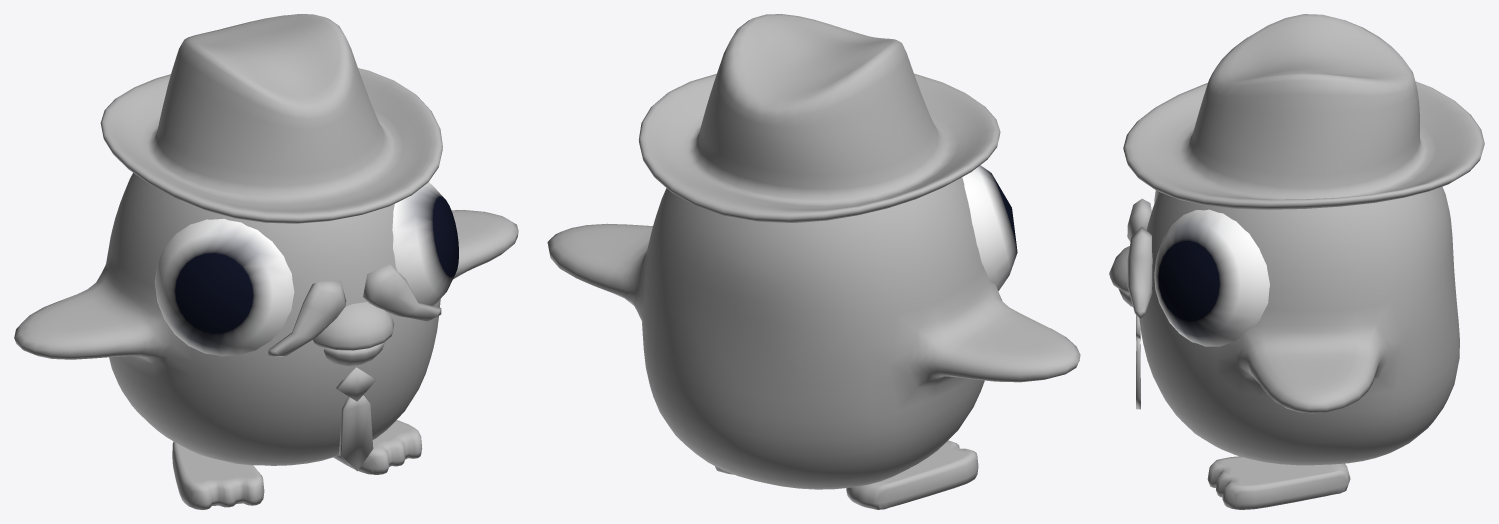
File: Penguin_R_S.fbx
3 renders of one model, left to right at view 1: azimuth 30°, elevation 25°; view 2: azimuth 150°, elevation 25°; view 3: azimuth 270°, elevation 25°, orthographic. The views are drawn at different scales.
Parts seen in each view (by area): view 1: P_Body, P_Hat01, P_Eyes, P_Feet, P_Mustache01, P_Neck01, P_MouthBot, P_MouthTop; view 2: P_Body, P_Hat01, P_Feet, P_Eyes; view 3: P_Body, P_Hat01, P_Eyes, P_Feet, P_Mustache01, P_MouthBot, P_Neck01.
Boxes of the visible parts, x1=… form: P_Body: x1=14, y1=173, x2=518, y2=465; P_Hat01: x1=100, y1=14, x2=442, y2=223; P_Eyes: x1=154, y1=182, x2=458, y2=356; P_Feet: x1=172, y1=420, x2=422, y2=509; P_Mustache01: x1=268, y1=264, x2=441, y2=356; P_Neck01: x1=336, y1=367, x2=376, y2=471; P_MouthBot: x1=313, y1=302, x2=394, y2=350; P_MouthTop: x1=323, y1=342, x2=384, y2=365; P_Body: x1=547, y1=177, x2=1080, y2=489; P_Hat01: x1=639, y1=14, x2=1000, y2=222; P_Feet: x1=715, y1=440, x2=978, y2=509; P_Eyes: x1=962, y1=165, x2=1017, y2=291; P_Body: x1=1139, y1=186, x2=1459, y2=465; P_Hat01: x1=1123, y1=14, x2=1484, y2=209; P_Eyes: x1=1154, y1=190, x2=1269, y2=346; P_Feet: x1=1207, y1=456, x2=1350, y2=509; P_Mustache01: x1=1127, y1=198, x2=1152, y2=318; P_MouthBot: x1=1109, y1=246, x2=1129, y2=292; P_Neck01: x1=1136, y1=315, x2=1140, y2=409.
Bounding box in the file's own units: 145 × 116 × 96.4.
